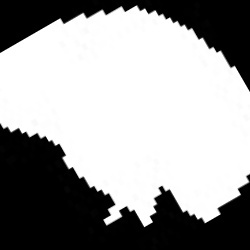spot: (3, 5, 248, 226)
